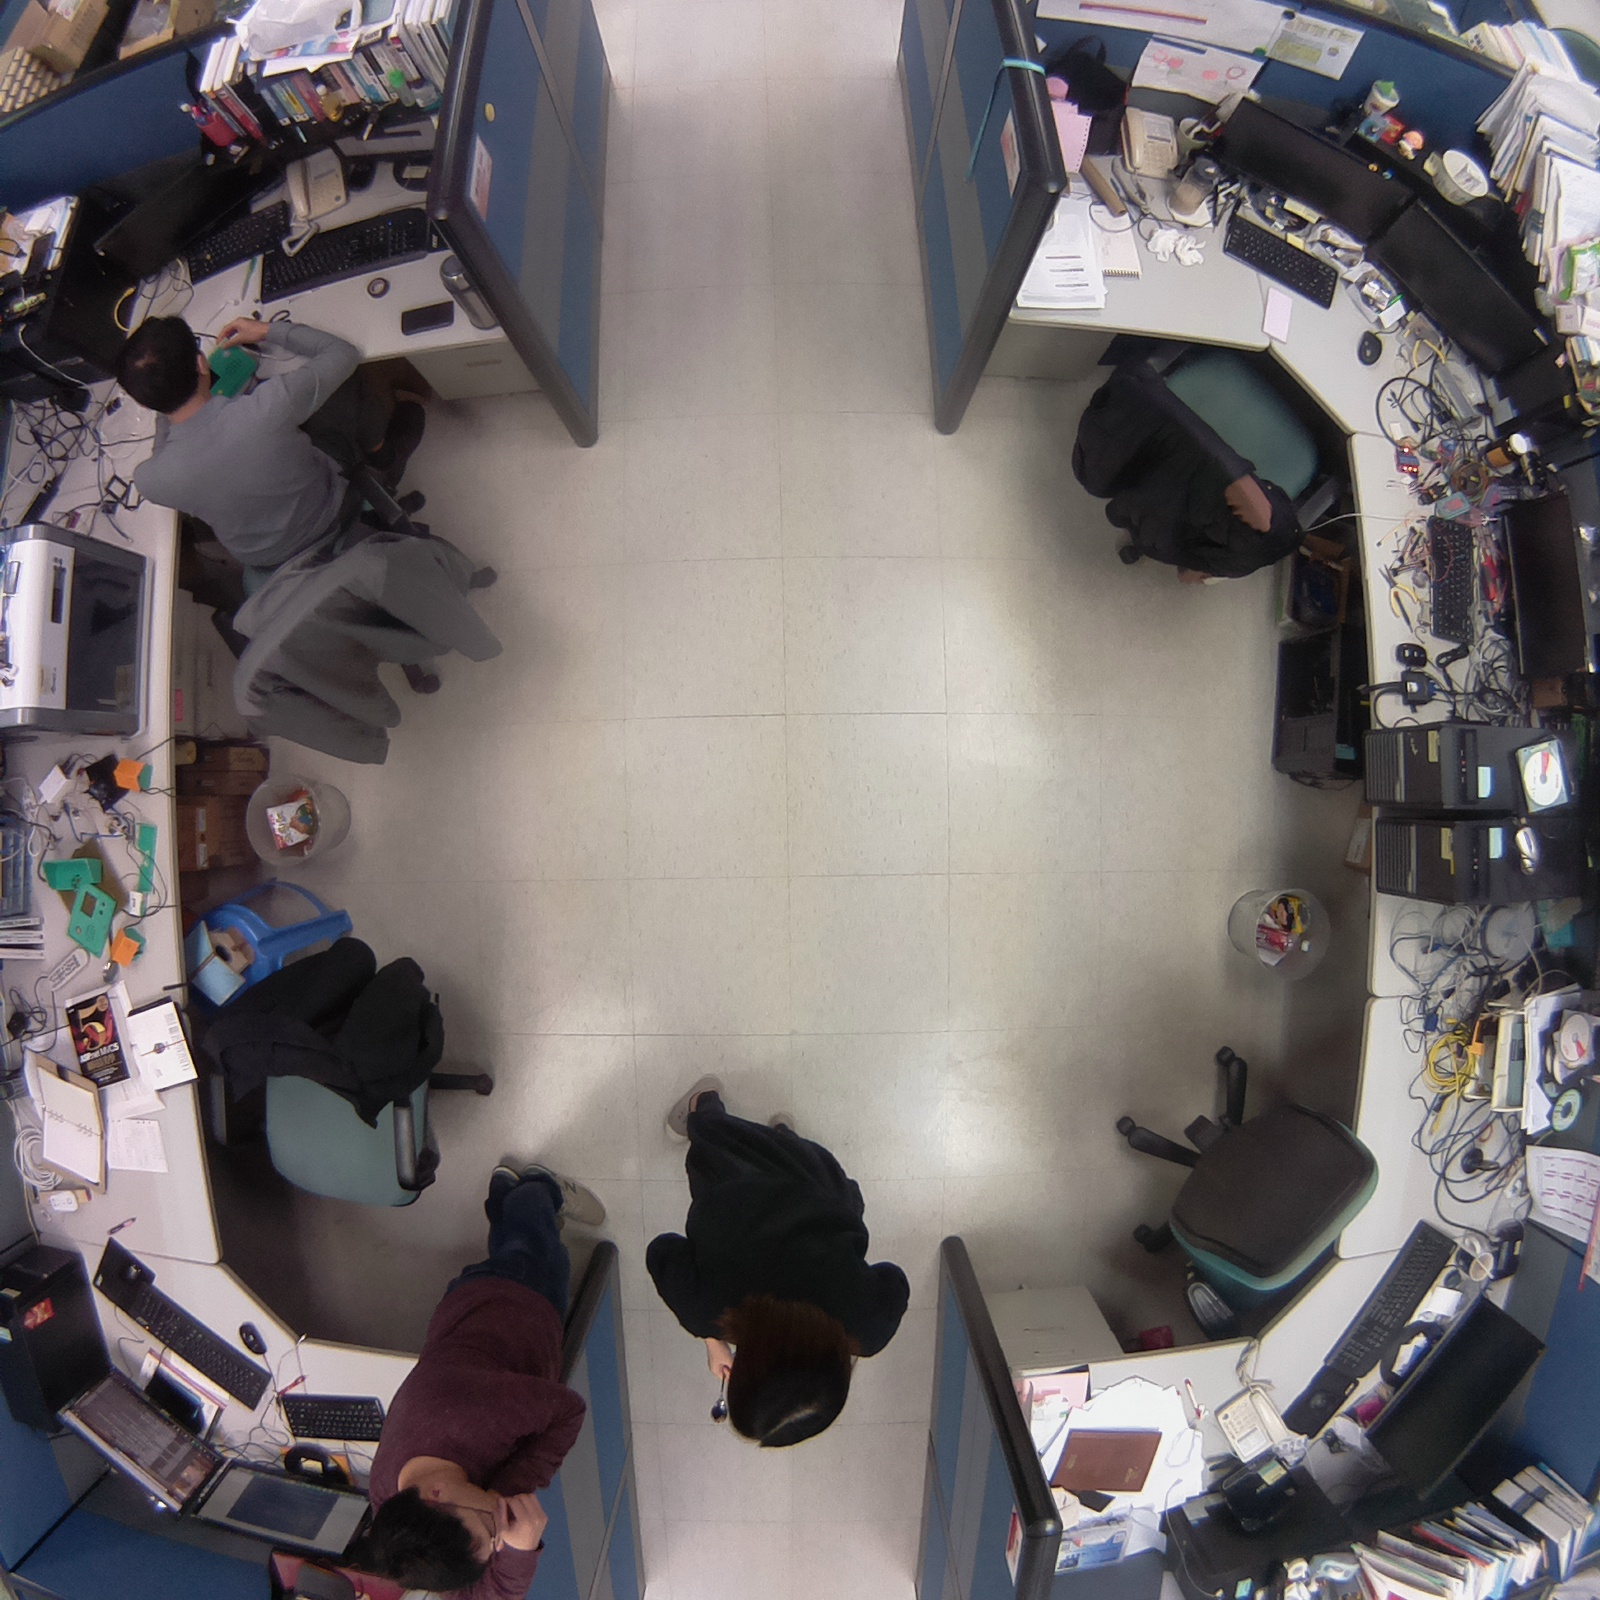chair: (183, 919, 522, 1232), (1101, 1029, 1391, 1334), (1050, 317, 1358, 601)
head: (706, 1310, 857, 1457), (359, 1448, 496, 1600), (110, 304, 217, 417)
sitting: (101, 303, 517, 786)
standing: (342, 1141, 612, 1600), (638, 1067, 916, 1461)
